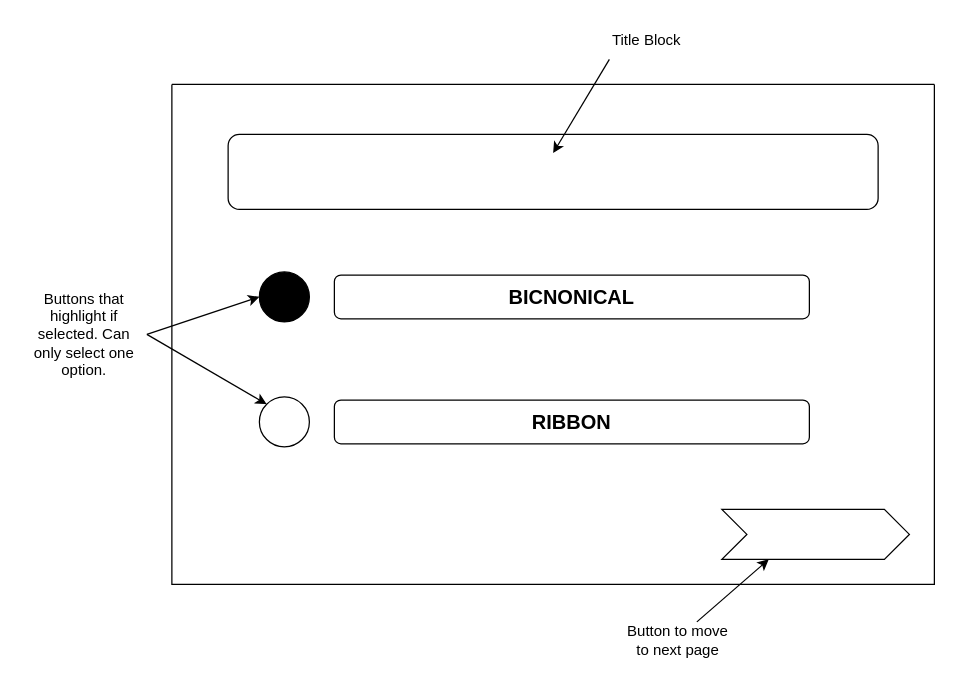
Some shapes in this 956 by 680 pixel diagram are drawn without their labels. Each missing label, with the centre of its shape:
"SELECT" belongs at (815,533).
"What Design of Parachute?" belongs at (552,171).
